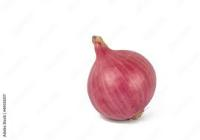onion: (85, 28, 159, 129)
